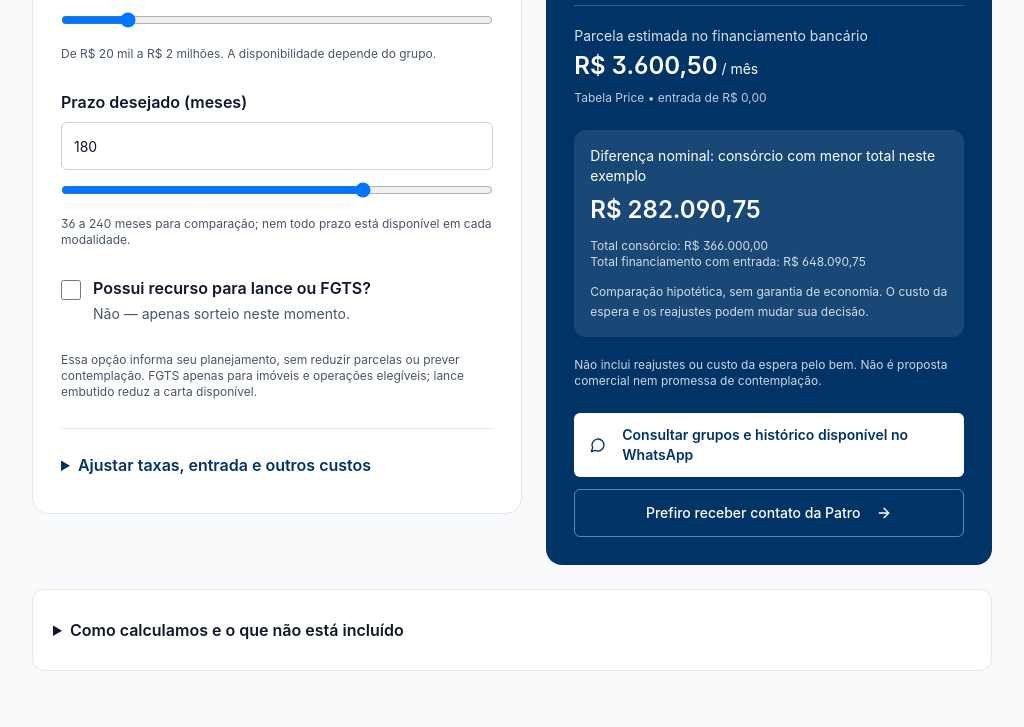
it: Apresentação educativa do simulador de consórcio › apresenta também o cenário em que o consórcio tem maior total nominal
(page scrolled)
Click the heading "Ajustar taxas, entrada e outros custos" at (224, 465), box x1=78 y1=455 x2=371 y2=475
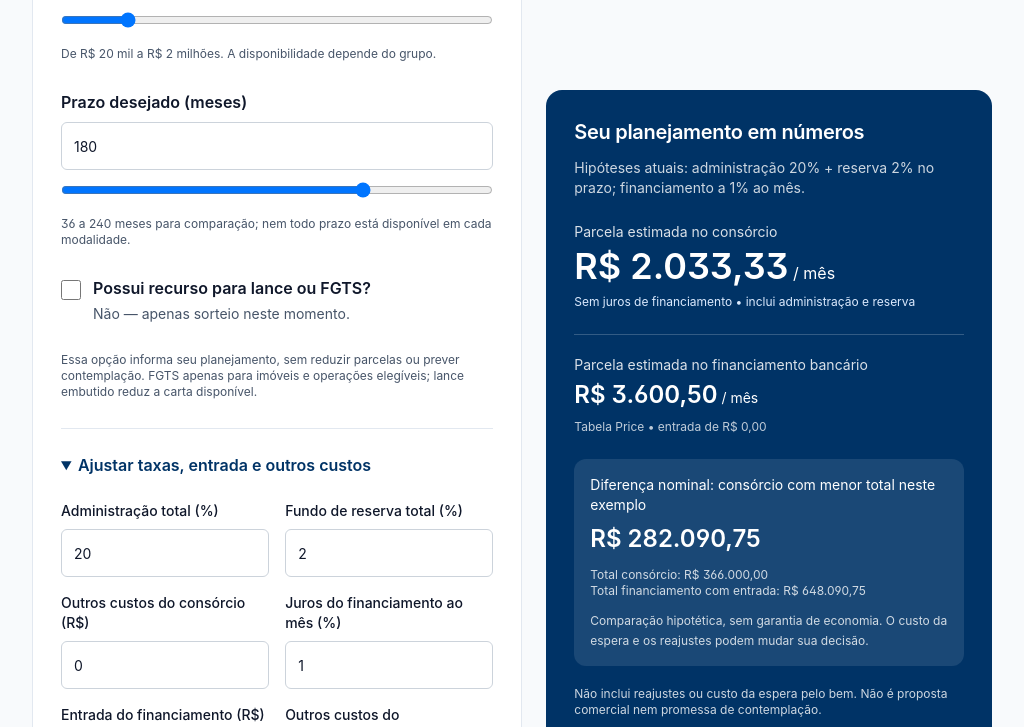
Replace the text in the number field labelled "Juros do financiamento ao mês (%)" with "0" at (389, 665), box x1=285 y1=641 x2=493 y2=689
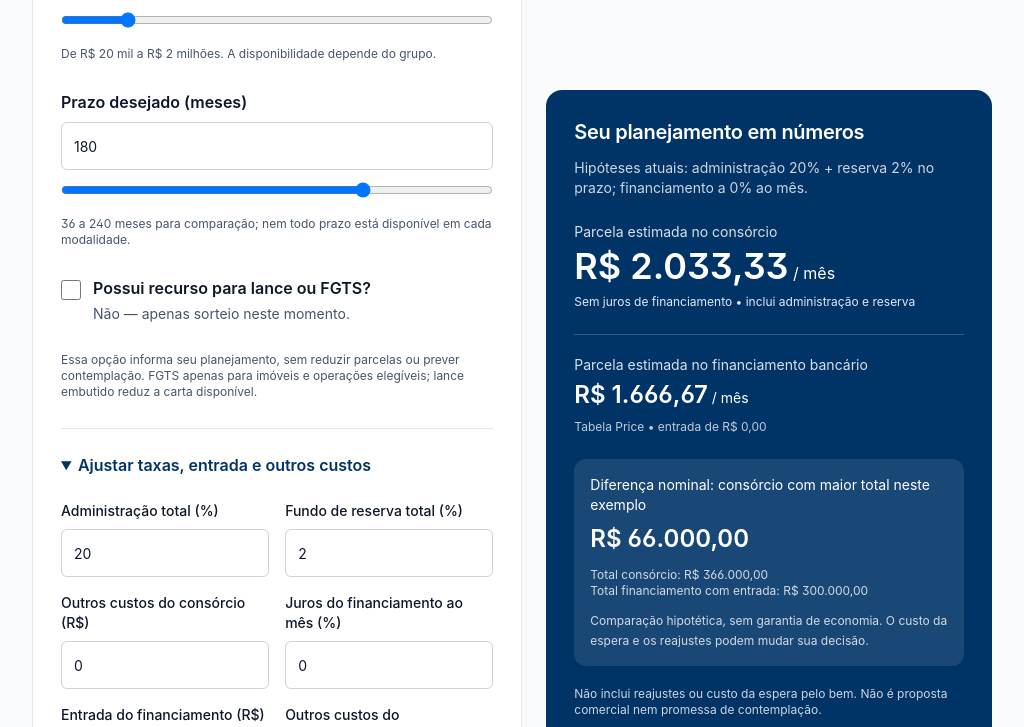
Now the text "Diferença nominal: consórcio com maior total neste exemplo" is shown, box x1=590 y1=475 x2=948 y2=515
